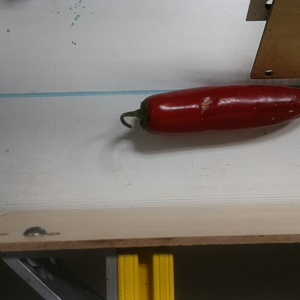Cut Point: (132, 93, 165, 136)
